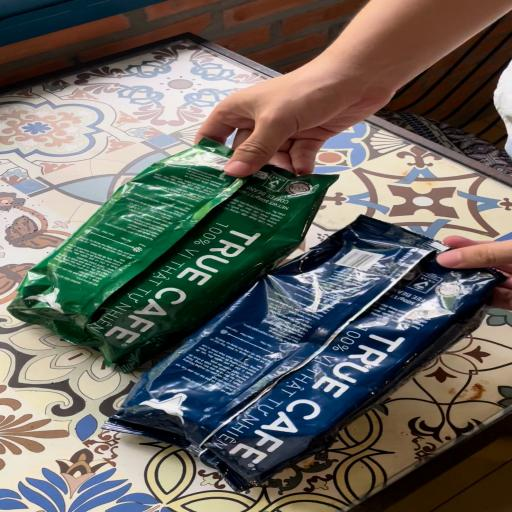cafe_hat: (104, 216, 505, 491)
cafe_xay: (9, 139, 337, 372)
